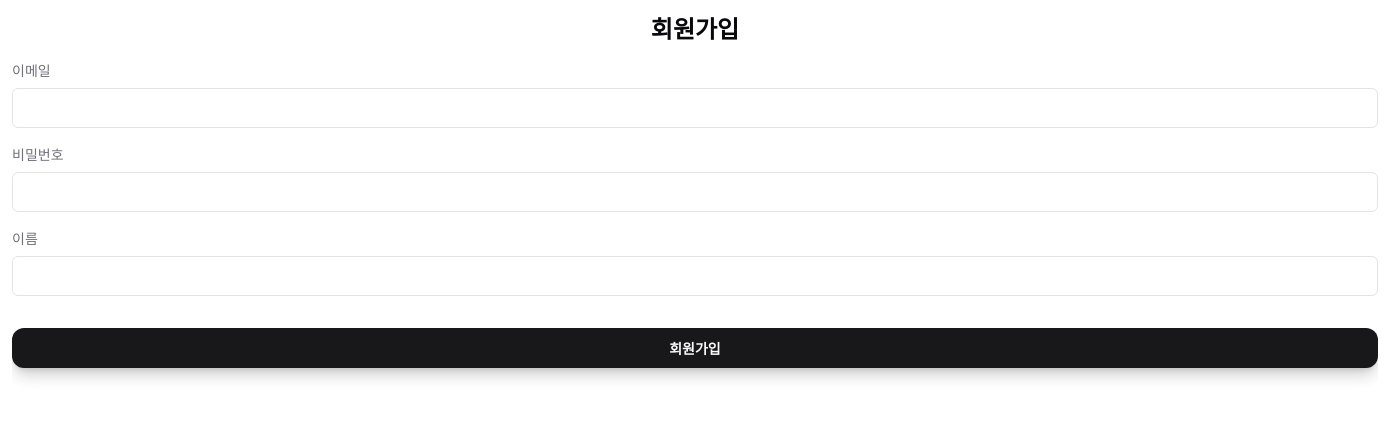
Test: SignUpForm › displays validation error when name is empty
Step 1. Type "test@example.com" into the field labelled "이메일" → (695, 108), box [12, 88, 1378, 128]
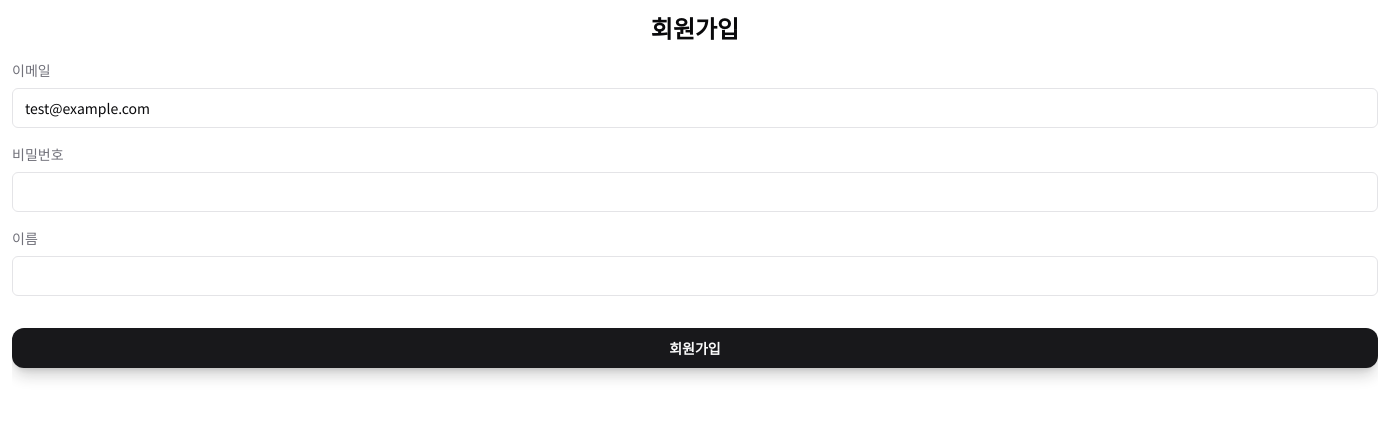
Step 2. Type "password123" into the password field labelled "비밀번호" → (695, 192), box [12, 172, 1378, 212]
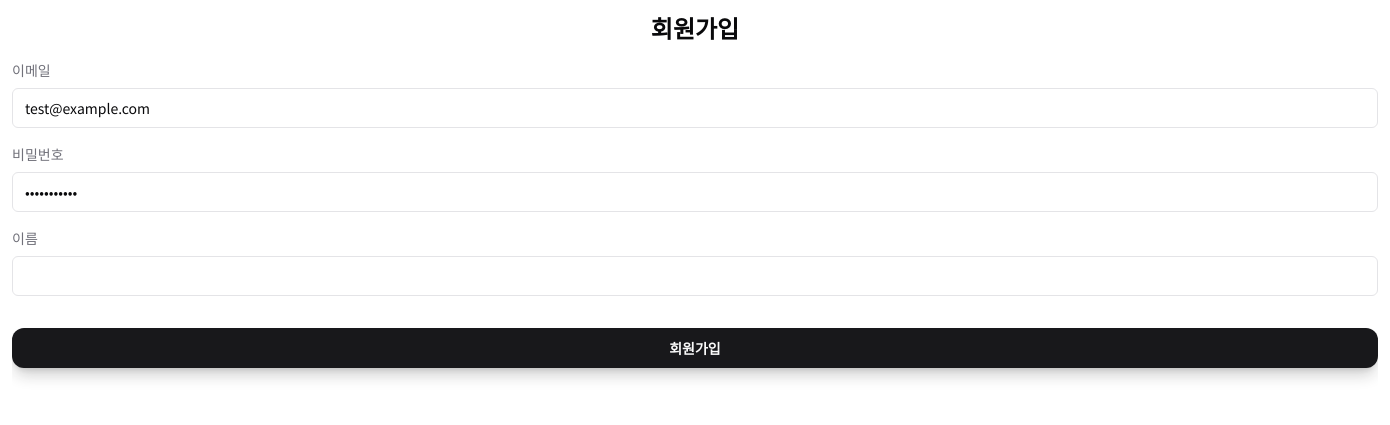
Step 3. Submit the form labelled "이메일"
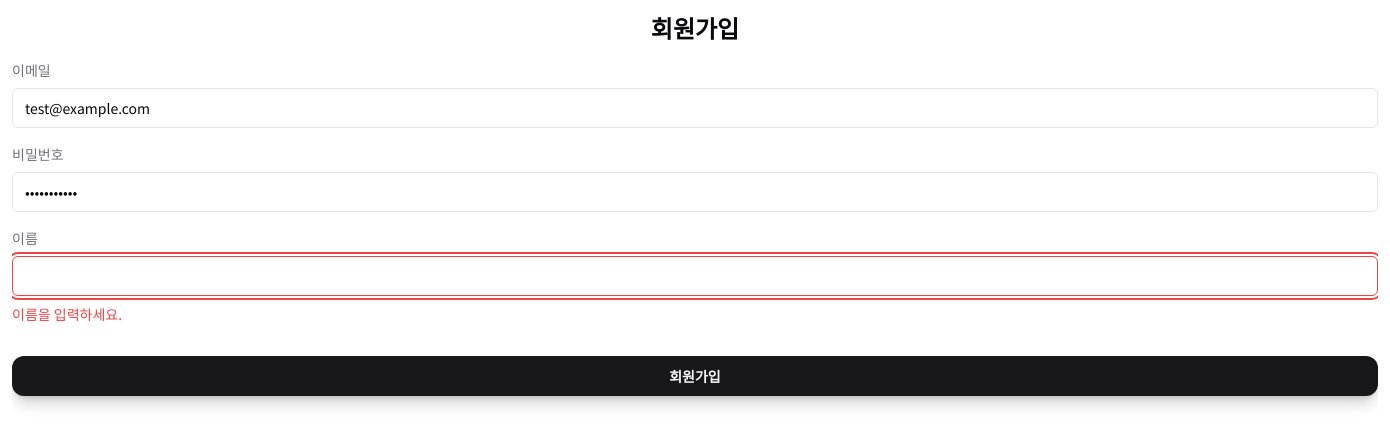
Check: the text "이름을 입력하세요." is shown, box [12, 304, 122, 324]
